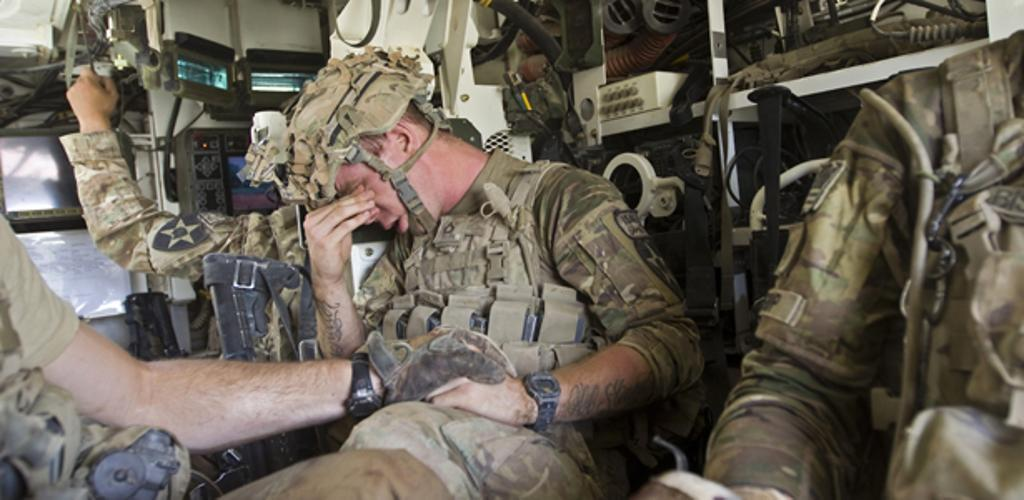face: (303, 153, 435, 243)
